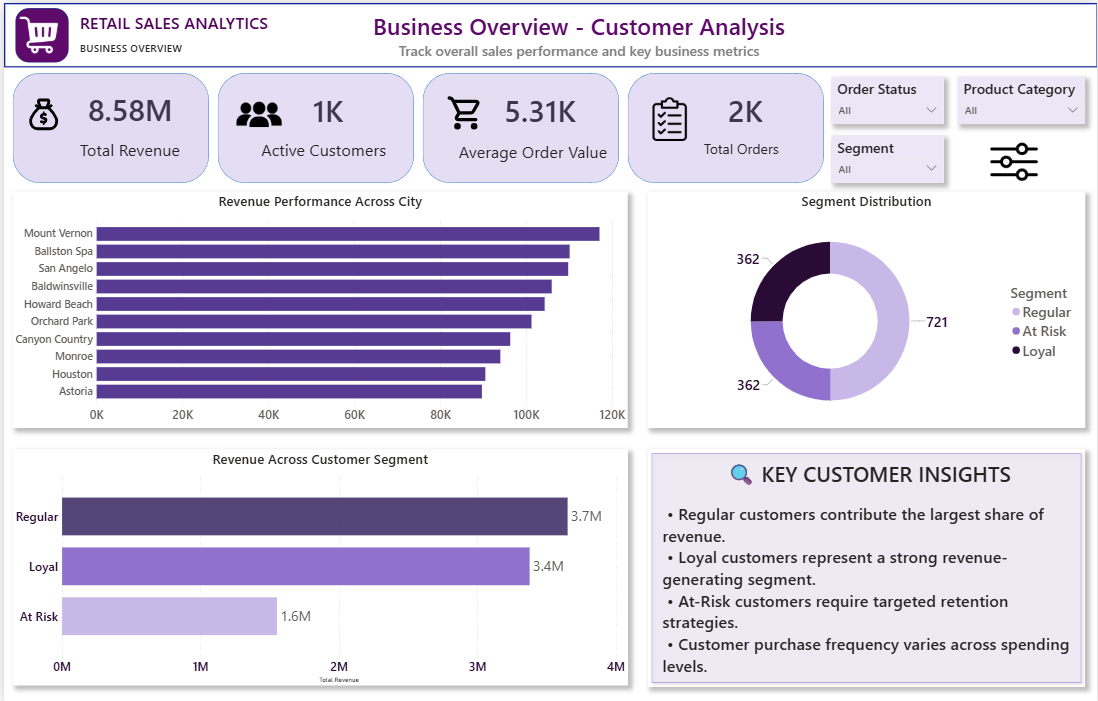

The dashboard page shown, as its layout file describes it:
{"tool":"powerbi","page":{"name":"customer","canvas":[2500,1600],"ordinal":1},"visuals":[{"type":"shape","box":[0,0,2500,147.5],"z":0},{"type":"shape","box":[25,12.5,122.5,125],"z":1000},{"type":"image","box":[35,25,90,95],"z":2000},{"type":"textbox","title":"sales side txt box","box":[167.5,15,680,132.5],"z":3000},{"type":"textbox","title":"sales header","box":[777.1,11.4,1074.3,137.1],"z":4000},{"type":"cardVisual","fields":{"Data":["Table_measures.Total Revenue"]},"box":[162.9,177.1,262.9,128.6],"z":6000},{"type":"shape","box":[20,160,448.6,251.4],"z":7000},{"type":"textbox","box":[168.6,305.7,257.5,70],"z":8000},{"type":"image","box":[37.1,200,110,105],"z":9000},{"type":"cardVisual","fields":{"Data":["Table_measures.Active Customers"]},"box":[677.1,188.6,202.5,107.5],"z":10000},{"type":"shape","box":[488.6,160,448.6,251.4],"z":11000},{"type":"textbox","box":[582.9,305.7,308.6,71.4],"z":12000},{"type":"image","box":[531.4,200,102.9,108.6],"z":13000},{"type":"cardVisual","fields":{"Data":["Table_measures.Avg Order Value"]},"box":[1114.3,188.6,248.6,108.6],"z":14000},{"type":"shape","box":[957.1,160,448.6,251.4],"z":15000},{"type":"textbox","box":[1034.3,308.6,391.4,71.4],"z":16000},{"type":"image","box":[997.1,205.7,117.1,91.4],"z":17000},{"type":"cardVisual","fields":{"Data":["Table_measures.Total Orders"]},"box":[1625.7,188.6,247.5,107.5],"z":18000},{"type":"shape","box":[1425.7,160,448.6,251.4],"z":19000},{"type":"textbox","box":[1594.3,305.7,210,70],"z":20000},{"type":"image","box":[1471.4,211.4,100,108.6],"z":21000},{"type":"slicer","fields":{"Values":["orders.order_status"]},"box":[1891.4,168.6,257.1,108.6],"z":22000},{"type":"slicer","fields":{"Values":["products.Category"]},"box":[2180,168.6,291.4,108.6],"z":23000},{"type":"slicer","fields":{"Values":["customer_segments.Segment"]},"box":[1891.4,302.9,257.1,108.6],"z":24000},{"type":"image","box":[2180,308.6,257.1,108.6],"z":25000},{"type":"barChart","title":"Revenue Performance Across City","fields":{"Category":["customers.city"],"Y":["Table_measures.Total Revenue"]},"box":[20,431.4,1405.7,540],"z":26000},{"type":"donutChart","title":"Segment Distribution","fields":{"Category":["customer_segments.Segment"],"Y":["CountNonNull(customer_segments.customer_id)"]},"box":[1471.4,431.4,1000,540],"z":27000},{"type":"clusteredBarChart","title":"Revenue Across Customer Segment","fields":{"Category":["customer_segments.Segment"],"Y":["Table_measures.Total Revenue"]},"box":[20,1020,1406,540],"z":28000},{"type":"shape","box":[1471.4,1020,1000,542.9],"z":29000},{"type":"textbox","box":[1500,1020,954.3,542.9],"z":30000}]}

Visuals, with their boxes in screenshot pixels (x1, y1, x2, y2), scaled from the page's 2500x1600 canvas onto the 1098x701 screenshot:
shape: select_region(0, 0, 1097, 65)
shape: select_region(11, 5, 65, 60)
image: select_region(15, 11, 55, 53)
"sales side txt box" textbox: select_region(74, 7, 372, 65)
"sales header" textbox: select_region(341, 5, 813, 65)
cardVisual - Table_measures.Total Revenue: select_region(72, 78, 187, 134)
shape: select_region(9, 70, 206, 180)
textbox: select_region(74, 134, 187, 165)
image: select_region(16, 88, 65, 134)
cardVisual - Table_measures.Active Customers: select_region(297, 83, 386, 130)
shape: select_region(215, 70, 412, 180)
textbox: select_region(256, 134, 392, 165)
image: select_region(233, 88, 279, 135)
cardVisual - Table_measures.Avg Order Value: select_region(489, 83, 599, 130)
shape: select_region(420, 70, 617, 180)
textbox: select_region(454, 135, 626, 166)
image: select_region(438, 90, 489, 130)
cardVisual - Table_measures.Total Orders: select_region(714, 83, 823, 130)
shape: select_region(626, 70, 823, 180)
textbox: select_region(700, 134, 792, 165)
image: select_region(646, 93, 690, 140)
slicer - orders.order_status: select_region(831, 74, 944, 121)
slicer - products.Category: select_region(957, 74, 1085, 121)
slicer - customer_segments.Segment: select_region(831, 133, 944, 180)
image: select_region(957, 135, 1070, 183)
"Revenue Performance Across City" barChart: select_region(9, 189, 626, 426)
"Segment Distribution" donutChart: select_region(646, 189, 1085, 426)
"Revenue Across Customer Segment" clusteredBarChart: select_region(9, 447, 626, 683)
shape: select_region(646, 447, 1085, 685)
textbox: select_region(659, 447, 1078, 685)
